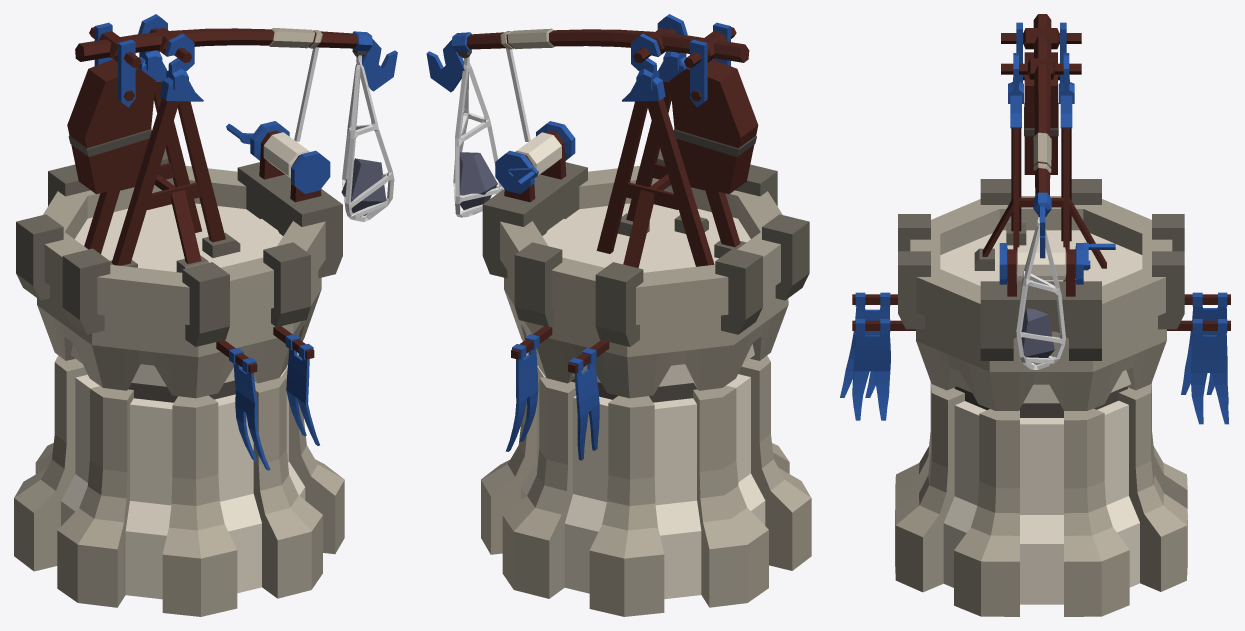
Rendered from new trebuchet tower.fbx.
3 views of the same model, side by side, from view 1: azimuth 30°, elevation 25°; view 2: azimuth 150°, elevation 25°; view 3: azimuth 270°, elevation 25° (orthographic). The views are drawn at different scales.
Parts seen in each view (by area): view 1: rotating top, tower base, trebuchet weight, trebuchet arm, Plane.005, trebuchet Puller Thingy, trebuchet stoneholder, stone, trebuchet string; view 2: rotating top, tower base, trebuchet weight, trebuchet arm, Plane.005, trebuchet Puller Thingy, trebuchet stoneholder, stone, trebuchet string; view 3: rotating top, tower base, Plane.005, trebuchet arm, trebuchet weight, trebuchet stoneholder, trebuchet Puller Thingy, stone.
Part boxes in pixels (left/top/right/bottom): rotating top: left=16, top=14, right=342, bottom=402; tower base: left=14, top=352, right=344, bottom=616; trebuchet weight: left=67, top=22, right=155, bottom=194; trebuchet arm: left=75, top=27, right=397, bottom=91; Plane.005: left=233, top=349, right=319, bottom=470; trebuchet Puller Thingy: left=226, top=121, right=330, bottom=193; trebuchet stoneholder: left=342, top=55, right=394, bottom=221; stone: left=341, top=158, right=386, bottom=215; trebuchet string: left=294, top=47, right=318, bottom=141; rotating top: left=482, top=14, right=809, bottom=402; tower base: left=481, top=352, right=811, bottom=616; trebuchet weight: left=670, top=22, right=758, bottom=193; trebuchet arm: left=426, top=27, right=749, bottom=92; Plane.005: left=506, top=349, right=599, bottom=460; trebuchet Puller Thingy: left=495, top=121, right=575, bottom=193; trebuchet stoneholder: left=453, top=56, right=503, bottom=217; stone: left=459, top=152, right=497, bottom=209; trebuchet string: left=506, top=48, right=530, bottom=141; rotating top: left=852, top=53, right=1230, bottom=417; tower base: left=895, top=382, right=1187, bottom=616; Plane.005: left=840, top=306, right=1228, bottom=424; trebuchet arm: left=1001, top=14, right=1081, bottom=258; trebuchet weight: left=1016, top=22, right=1066, bottom=174; trebuchet stoneholder: left=1016, top=217, right=1065, bottom=369; trebuchet Puller Thingy: left=999, top=242, right=1115, bottom=284; stone: left=1021, top=308, right=1054, bottom=362.
Size of the model in its own units: 1081 by 1553 by 1101.
